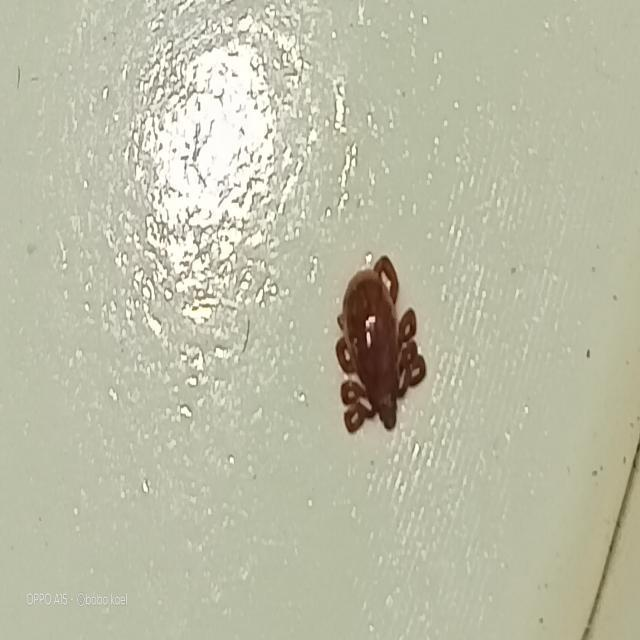Rhipicephalus Sanguineus-M: (334, 257, 429, 437)
